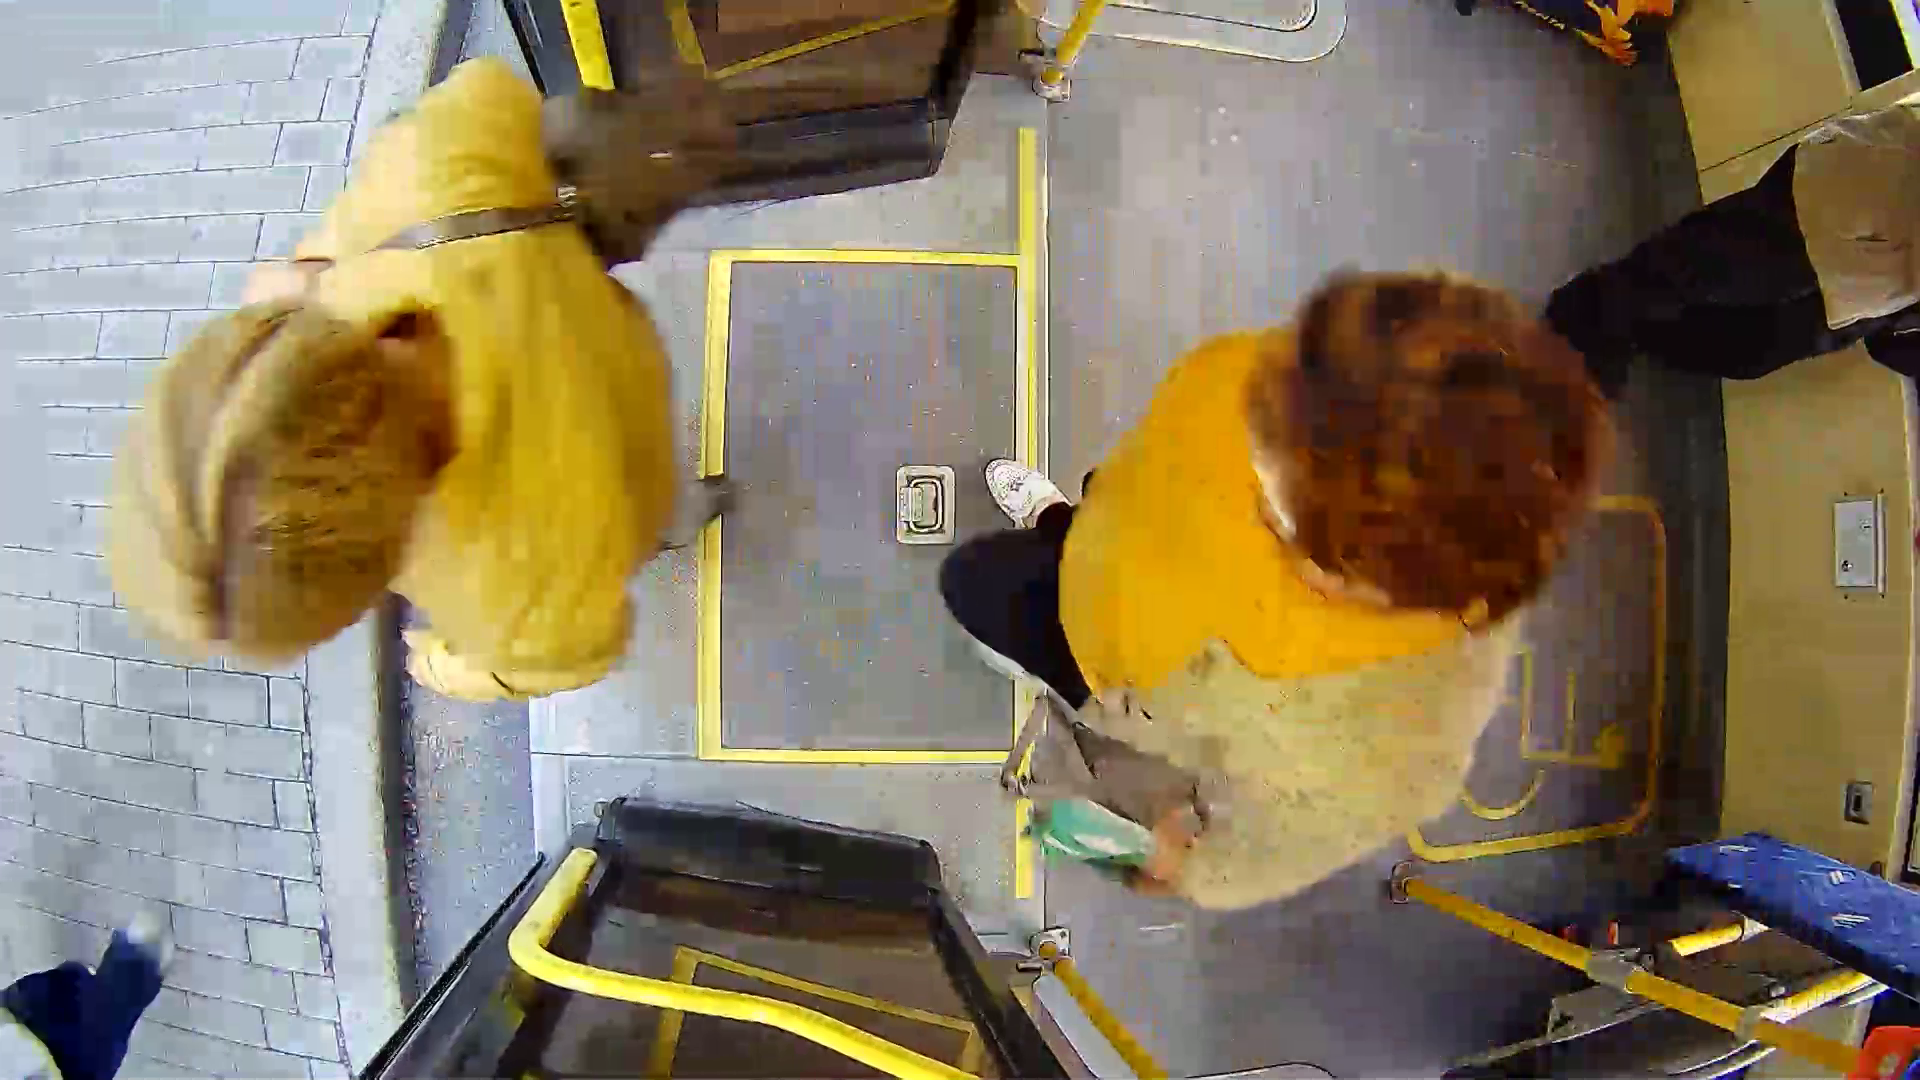person: (956, 249, 1638, 915), (151, 70, 766, 700)
